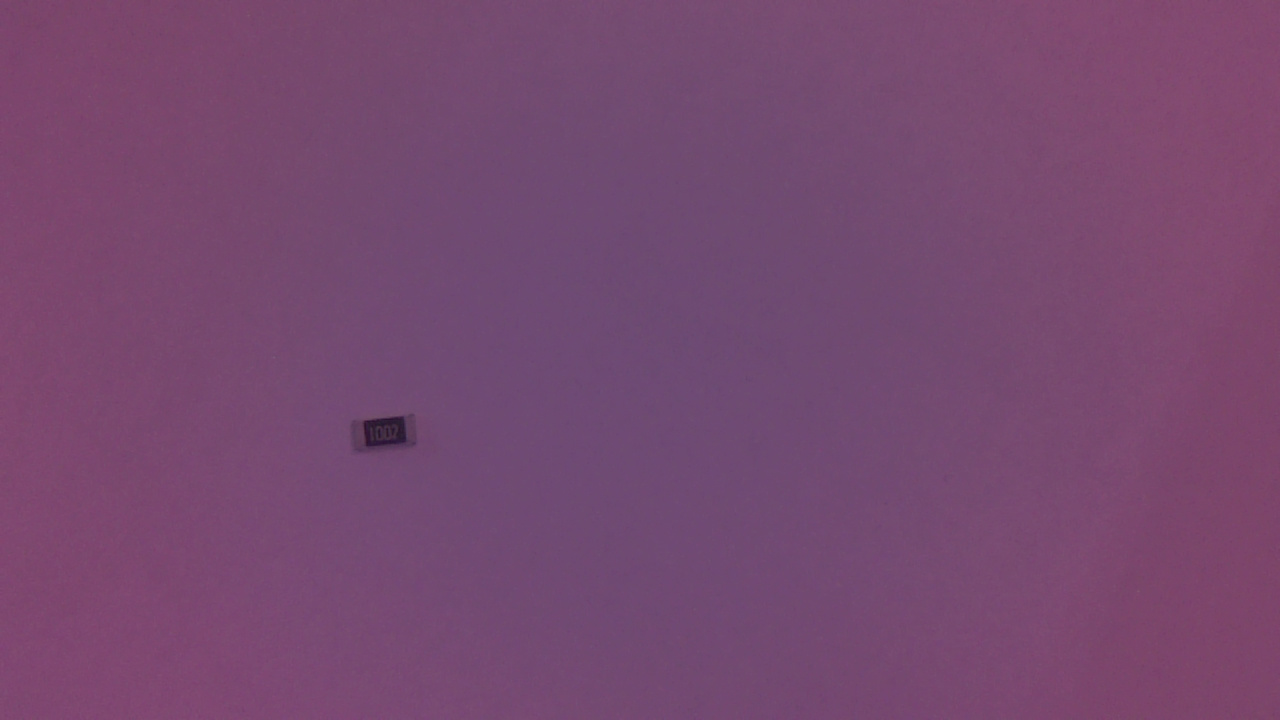Resistor: (351, 406, 432, 462)
